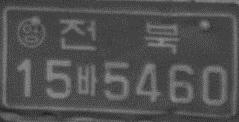0: (201, 64, 229, 107)
1: (12, 57, 39, 98)
4: (135, 62, 160, 103)
5: (44, 58, 73, 100), (103, 61, 130, 102)
6: (168, 64, 195, 104)
바: (76, 63, 99, 96)
영: (16, 17, 46, 49)
전북_D: (58, 17, 180, 55)
